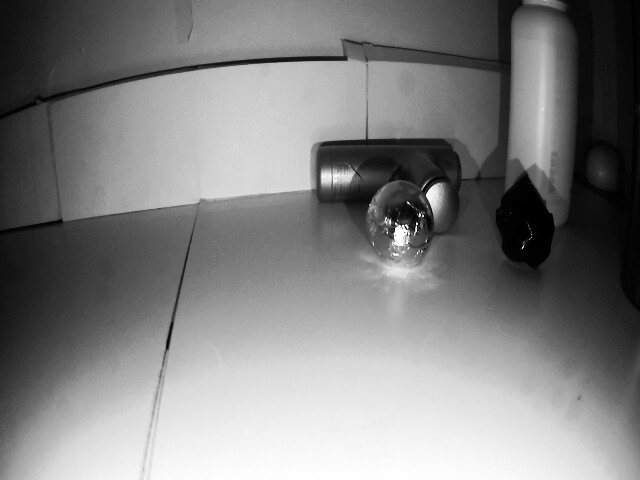black: (366, 178, 438, 271)
silver: (492, 177, 559, 264)
